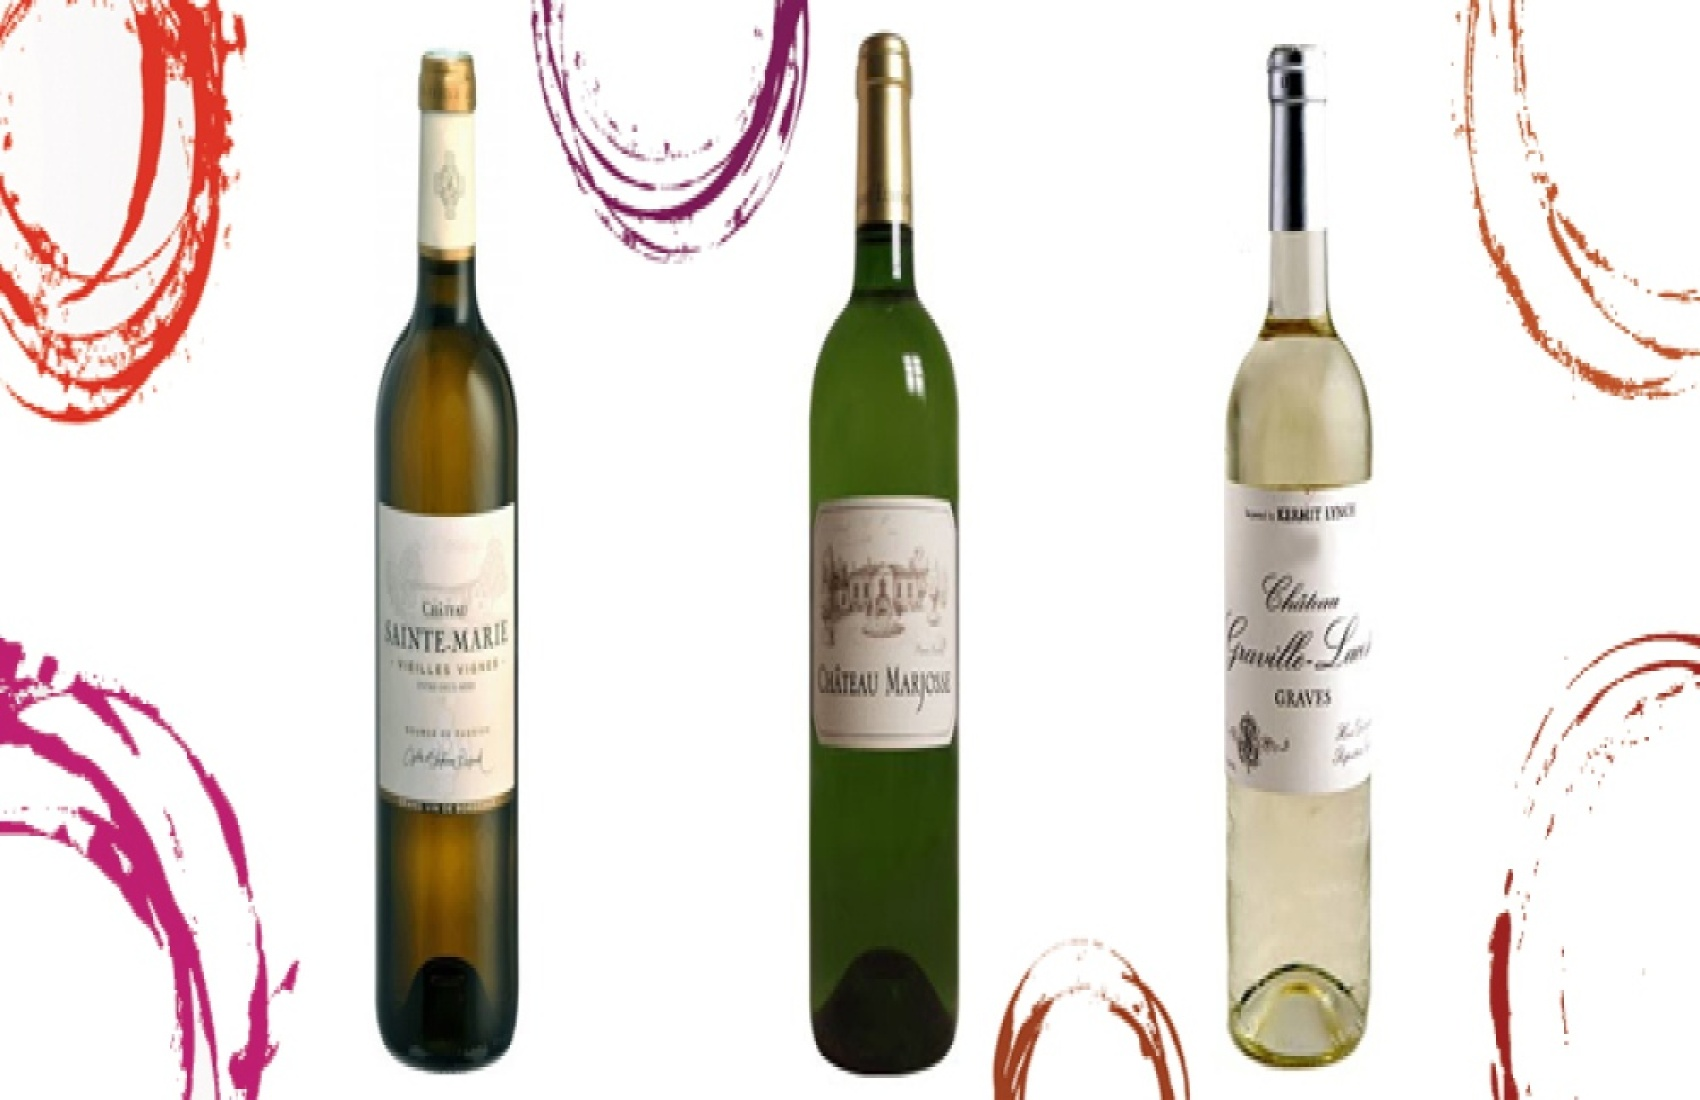wine: (818, 59, 955, 1074), (1225, 42, 1363, 1057), (374, 50, 510, 1064)
